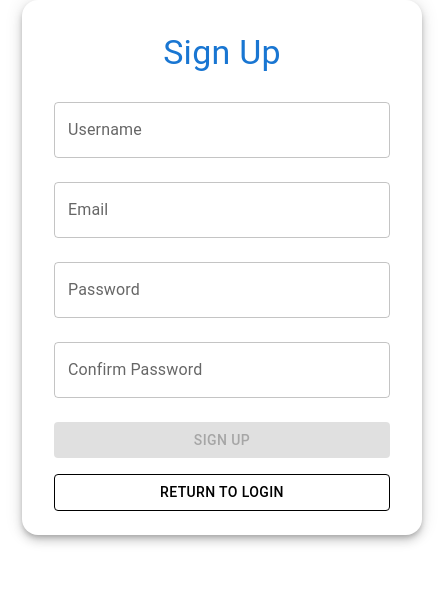
Test case: SignUp Flow (BDD) › displays validation errors returned from API
In the field labelled "Username": (222, 130) [54, 102, 390, 158], type "testuser"
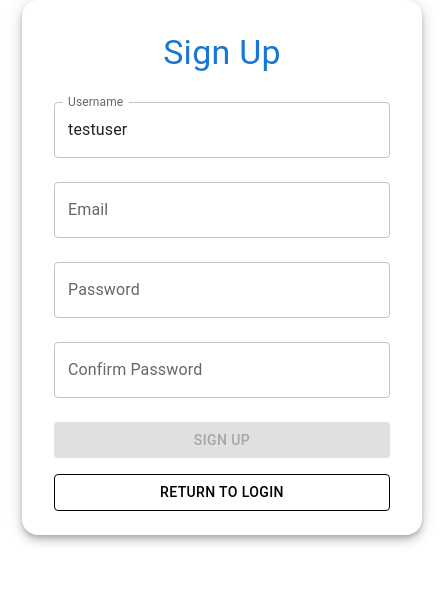
In the field labelled "Email": (222, 210) [54, 182, 390, 238], type "taken@example.com"
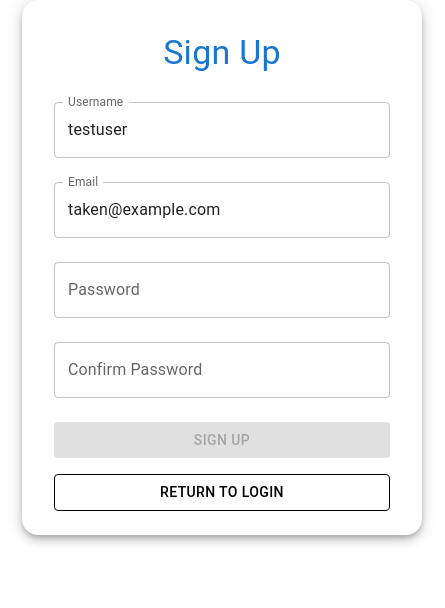
In the password field labelled "Password": (222, 290) [54, 262, 390, 318], type "password123"
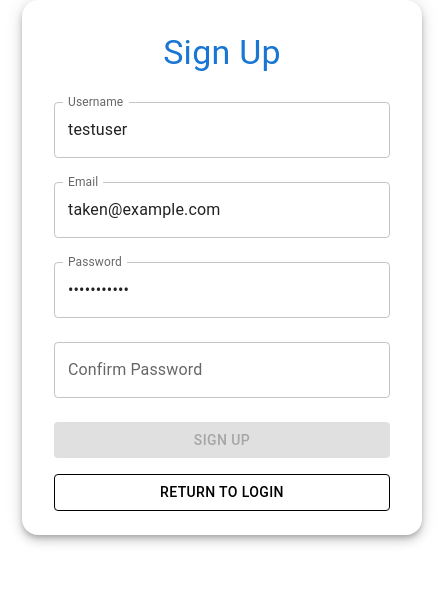
In the password field labelled "Confirm Password": (222, 370) [54, 342, 390, 398], type "password123"
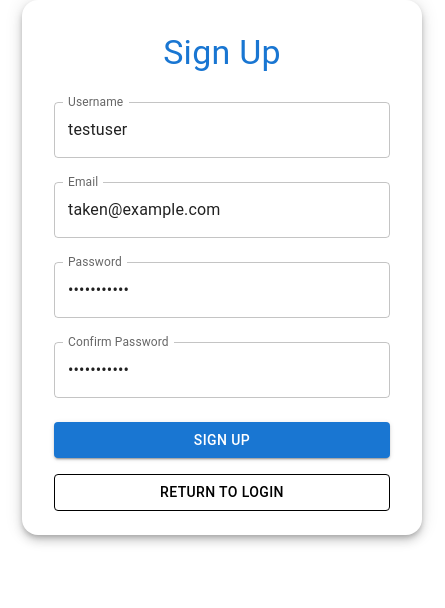
Click the button "Sign Up": (222, 440) [54, 422, 390, 458]
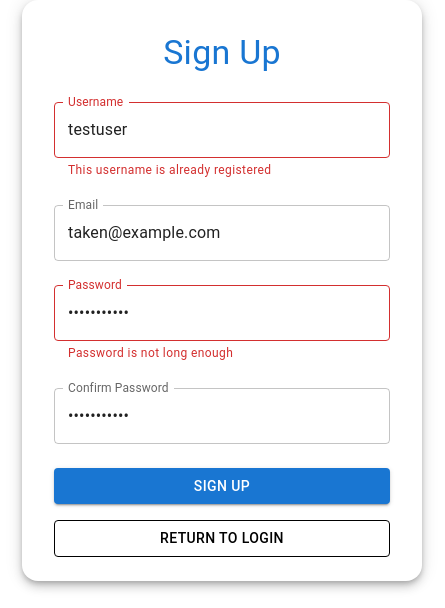
Expected: the text "This username is already registered" is shown, [68, 163, 272, 177]
Expected: the text "Password is not long enough" is shown, [68, 346, 233, 360]
